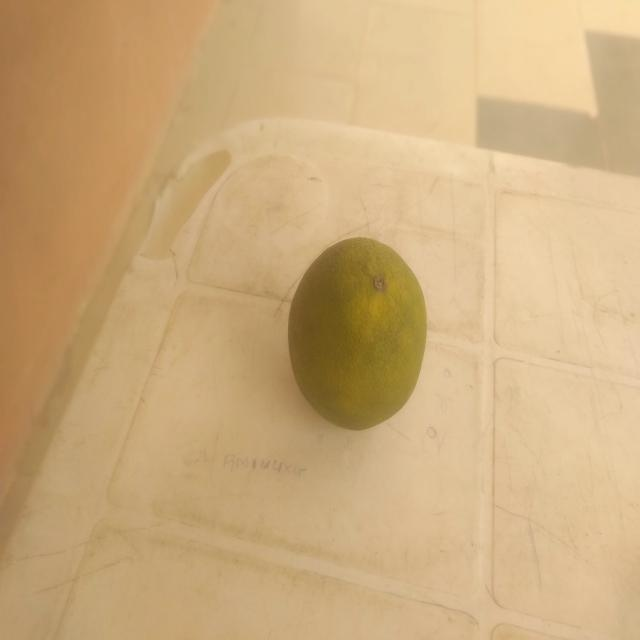agrume: (272, 206, 455, 455)
